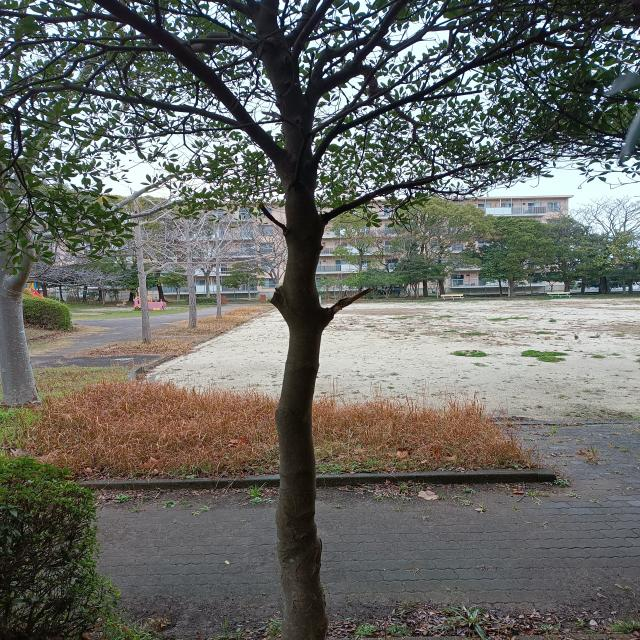Branch: (91, 0, 280, 162), (324, 155, 513, 221), (307, 0, 411, 102), (314, 92, 422, 162)
Twig: (10, 80, 245, 131), (421, 35, 546, 96), (311, 34, 418, 78), (307, 0, 397, 41), (25, 49, 106, 87), (0, 38, 106, 60), (294, 0, 335, 54), (107, 38, 235, 51), (514, 130, 556, 156), (544, 33, 590, 50), (425, 90, 481, 101), (512, 158, 547, 165)
